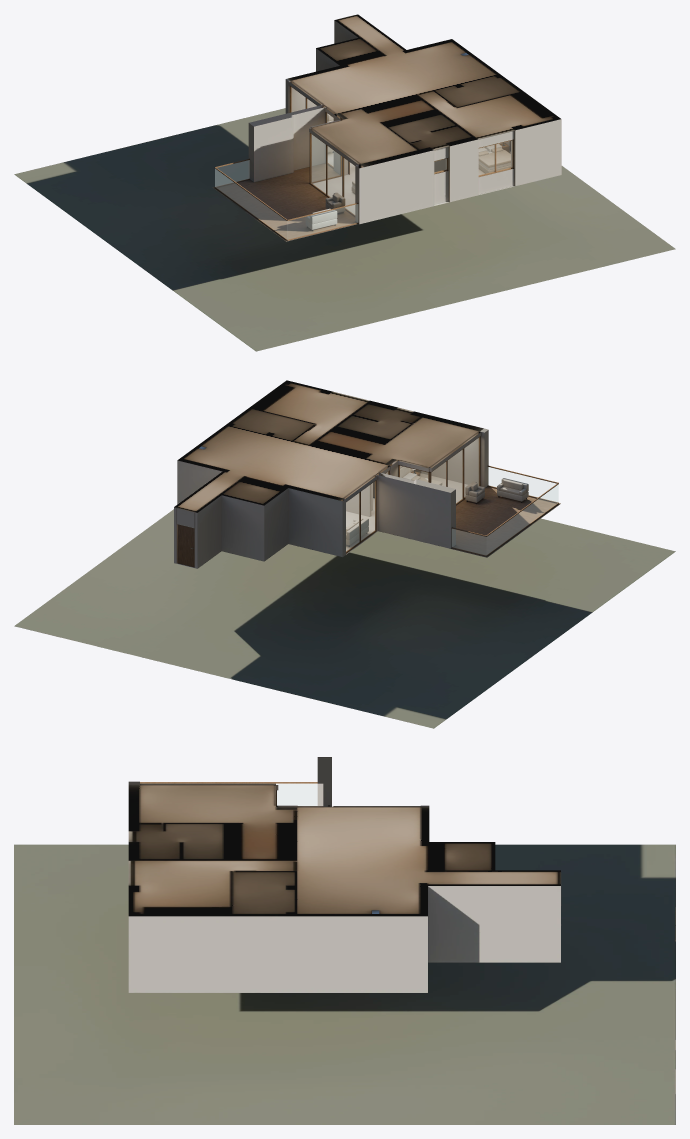
The picture shows the model from 3 angles, top to bottom: view 1: azimuth 30°, elevation 25°; view 2: azimuth 150°, elevation 25°; view 3: azimuth 270°, elevation 25°; orthographic projection. The views are drawn at different scales.
Parts seen in each view (by area): view 1: D6_piso, D6_muros, D6_vidrio, D6_carp, D6_muebles; view 2: D6_piso, D6_muros, D6_vidrio, D6_carp, D6_muebles; view 3: D6_piso, D6_muros, D6_vidrio.
Part boxes in pixels (x1,y1,x2,y2): D6_piso: (14,108,675,351); D6_muros: (248,14,561,224); D6_vidrio: (215,87,512,239); D6_carp: (214,86,513,240); D6_muebles: (305,53,510,231); D6_piso: (14,473,675,728); D6_muros: (174,380,488,568); D6_vidrio: (346,438,558,554); D6_carp: (177,436,558,567); D6_muebles: (191,446,528,548); D6_piso: (14,844,675,1124); D6_muros: (128,757,561,992); D6_vidrio: (276,784,317,805).
Bounding box in the file's own units: 23.15 × 6.17 × 23.12.
Materials: 5 (4 with a texture image).
